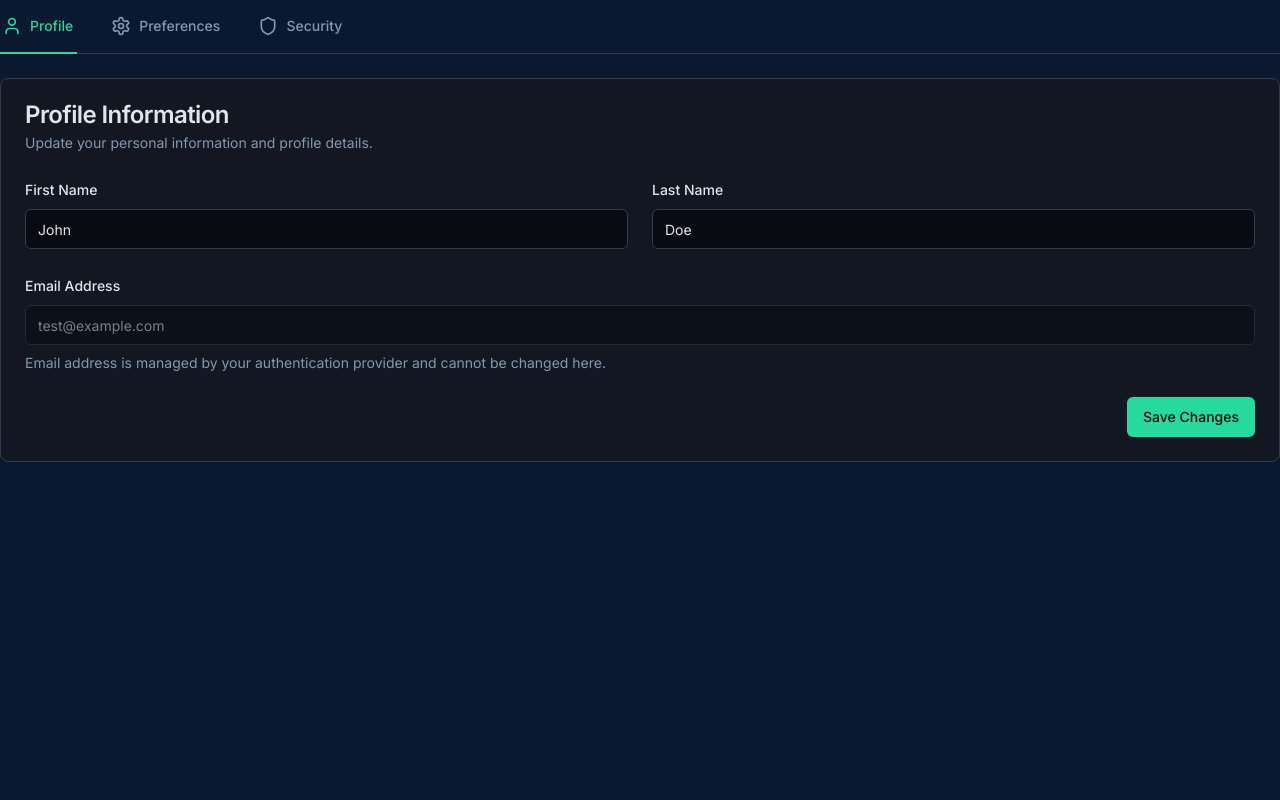
Test: UserProfile › Preferences Form › handles preferences update errors
Click the tab "Preferences" at (167, 27), box [109,0,224,54]
(page scrolled)
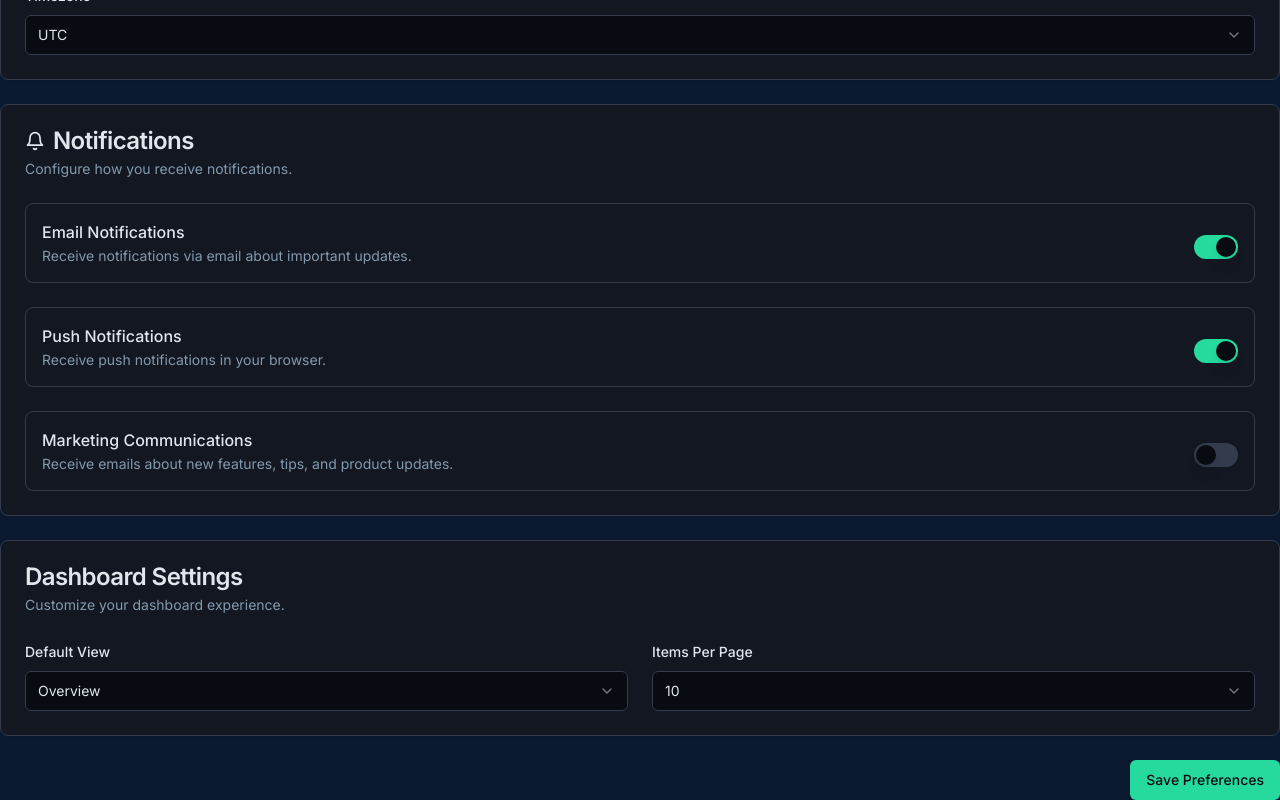
Click the button "Save Preferences" at (1205, 780), box [1130,760,1279,799]
(page scrolled)
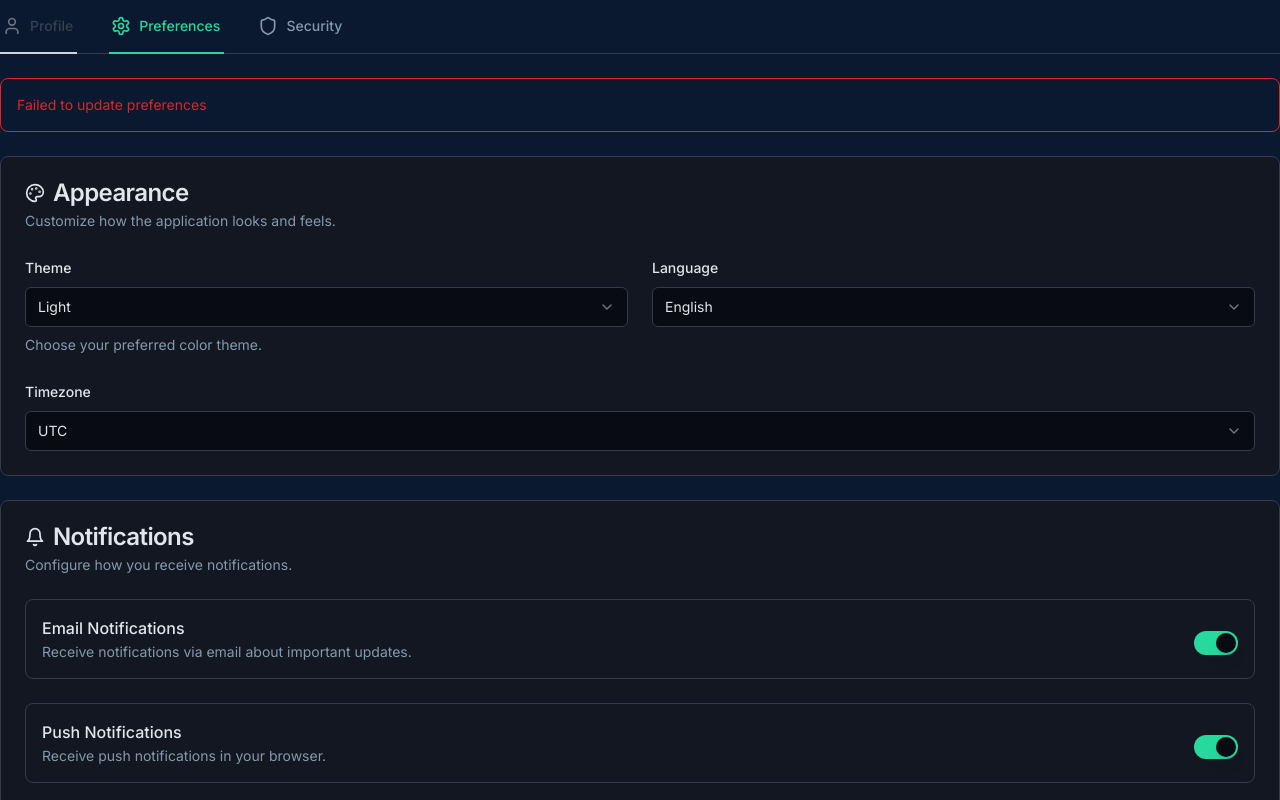
Expected: the text "Failed to update preferences" is shown, [17,96,207,113]
